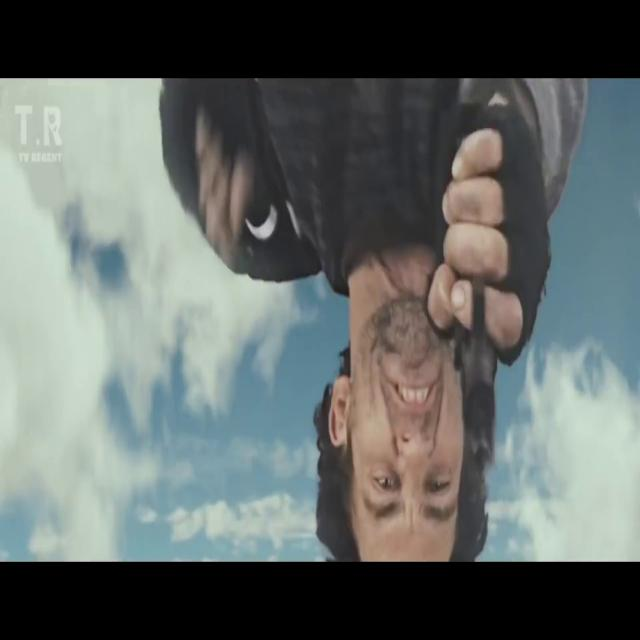handgun: (442, 208, 510, 455)
